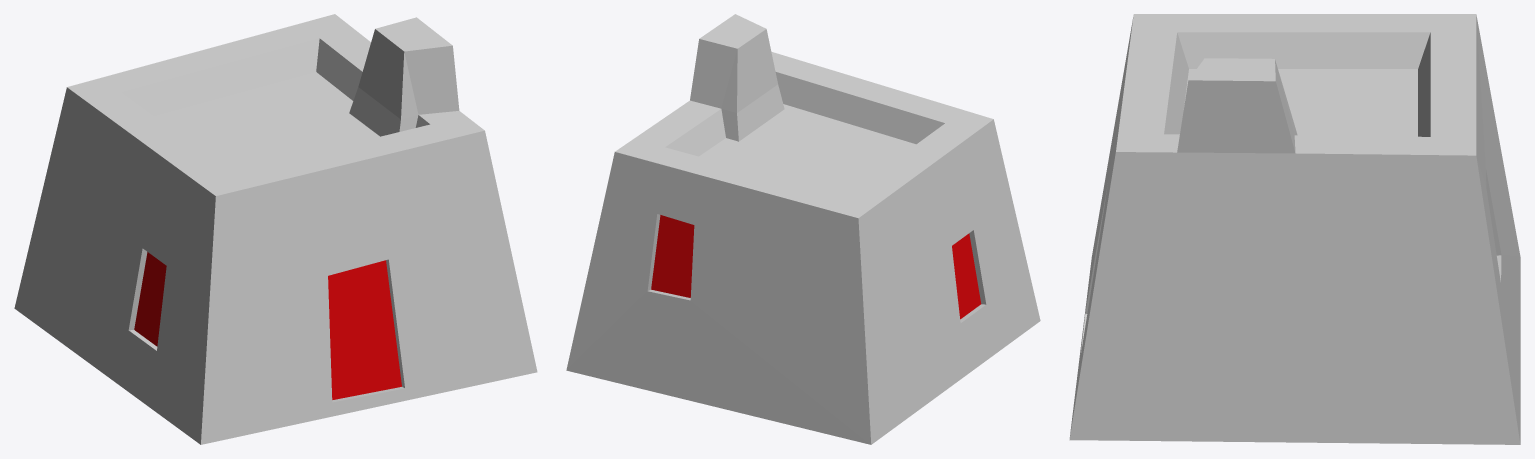
File: House.fbx
3 views of the same model, side by side, from view 1: azimuth 30°, elevation 25°; view 2: azimuth 150°, elevation 25°; view 3: azimuth 270°, elevation 25° (orthographic). The views are drawn at different scales.
Parts seen in each view (by area): view 1: Cube; view 2: Cube; view 3: Cube.
Part boxes in pixels (x1,y1,x2,y2): Cube: [14, 14, 537, 444]; Cube: [566, 14, 1040, 444]; Cube: [1069, 14, 1520, 444].
Bounding box in the file's own units: 304 × 257 × 308.
